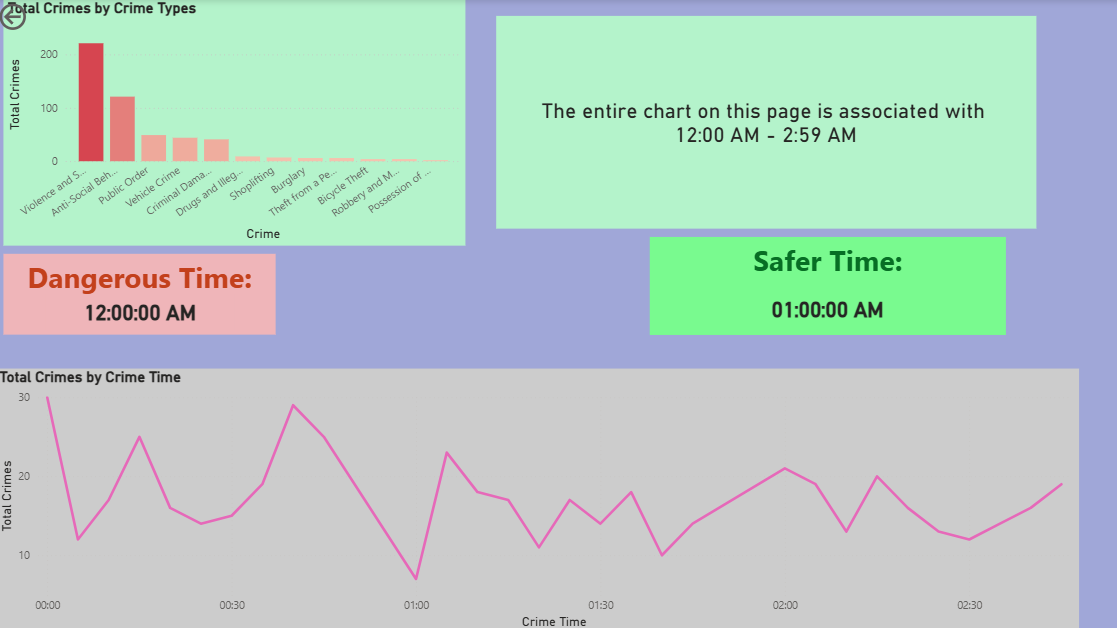

The dashboard page shown, as its layout file describes it:
{"tool":"powerbi","page":{"name":"Crime Summary 2","canvas":[1280,720],"ordinal":1},"visuals":[{"type":"columnChart","title":"Total Crimes by Crime Types","fields":{"Category":["Crime Types.Crime"],"Y":["Calculations.Total Crimes"]},"box":[9.8,0,525.2,280.2],"z":0},{"type":"card","fields":{"Values":["Calculations.Drillthrough"]},"box":[569.6,19.2,613.7,241.6],"z":1000},{"type":"textbox","box":[9.8,290,309.6,92.1],"z":2000},{"type":"card","fields":{"Values":["Max(Data.Crime Time)"]},"box":[57.5,335.6,214.8,40.3],"z":3000},{"type":"actionButton","box":[0,0,100,40],"z":4000},{"type":"textbox","box":[744.1,270.4,404.6,111.2],"z":6000},{"type":"lineChart","fields":{"Category":["Data.Crime Time"],"Y":["Calculations.Total Crimes"]},"box":[0,420.3,1232.2,300.9],"z":7000},{"type":"card","fields":{"Values":["Max(Data.Crime Time)"]},"box":[841.9,324.1,209,57.5],"z":7001}]}

Visuals, with their boxes in screenshot pixels (x1, y1, x2, y2), scaled from the page's 1280x720 canvas onto the 1117x628 screenshot:
"Total Crimes by Crime Types" columnChart: (9,0,467,244)
card - Calculations.Drillthrough: (497,17,1033,227)
textbox: (9,253,279,333)
card - Max(Data.Crime Time): (50,293,238,328)
actionButton: (0,0,87,35)
textbox: (649,236,1002,333)
lineChart - Data.Crime Time x Calculations.Total Crimes: (0,367,1075,627)
card - Max(Data.Crime Time): (735,283,917,333)
